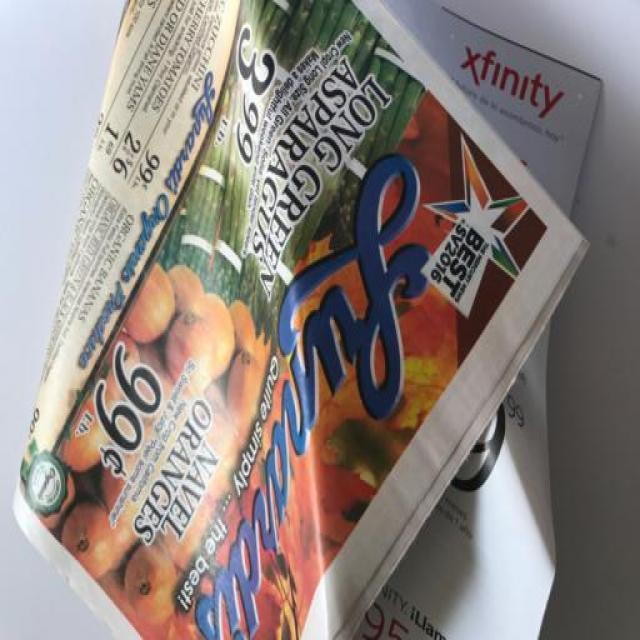paper: (18, 1, 609, 640)
